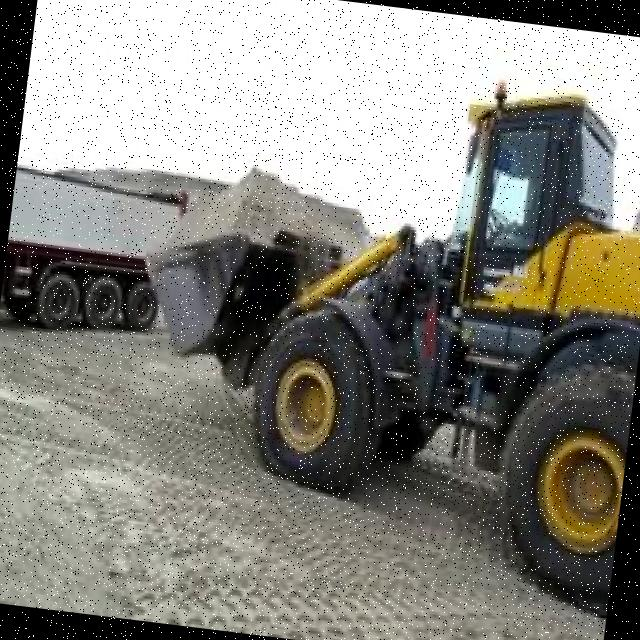Dump Truck: (0, 155, 191, 344)
Loader: (103, 29, 640, 615)
